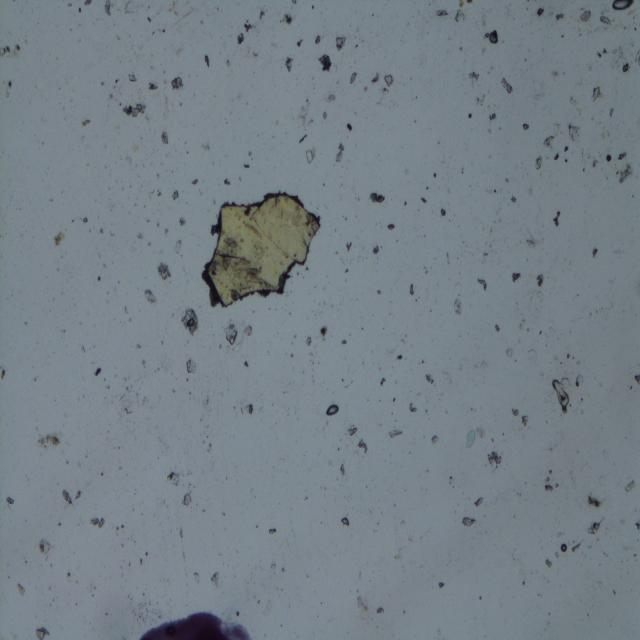Air bubble: (323, 399, 342, 422), (610, 0, 636, 12)
Background material: (553, 378, 573, 417), (178, 309, 200, 336), (36, 431, 64, 452), (120, 101, 152, 118), (35, 536, 57, 560), (222, 322, 240, 351), (614, 165, 636, 188), (586, 515, 608, 537), (351, 590, 373, 612), (485, 449, 505, 472), (0, 38, 23, 58), (544, 469, 560, 497), (87, 514, 109, 534), (142, 286, 160, 309), (170, 73, 187, 96), (13, 576, 28, 602), (584, 492, 604, 511), (50, 228, 68, 249), (155, 262, 173, 283), (464, 426, 478, 452), (598, 10, 616, 30), (460, 513, 480, 531), (567, 119, 581, 144), (511, 408, 531, 425), (368, 189, 388, 206), (317, 52, 333, 73), (338, 514, 356, 532), (32, 620, 50, 638), (334, 142, 346, 168), (499, 78, 516, 96), (157, 130, 173, 149), (167, 470, 181, 491), (183, 361, 200, 378), (622, 478, 638, 496), (356, 438, 372, 456), (60, 489, 76, 507), (180, 491, 195, 510), (452, 292, 464, 315), (580, 8, 596, 25), (472, 494, 488, 511), (170, 239, 183, 259), (534, 273, 547, 293), (619, 58, 633, 76), (387, 424, 405, 438), (544, 132, 556, 153), (552, 209, 565, 228), (488, 28, 500, 48), (474, 278, 490, 293), (334, 35, 348, 52), (4, 491, 16, 510), (434, 5, 451, 18), (202, 54, 214, 72), (317, 323, 331, 338), (240, 19, 256, 32), (384, 221, 400, 234), (104, 2, 116, 19), (454, 8, 466, 25), (508, 269, 522, 283), (346, 426, 359, 441), (209, 571, 221, 587), (284, 56, 296, 72), (338, 462, 348, 481), (348, 70, 359, 87), (305, 149, 316, 166), (406, 401, 420, 414), (489, 110, 501, 125), (430, 431, 442, 446), (92, 363, 104, 378), (170, 187, 180, 204), (616, 149, 628, 163), (233, 34, 247, 46), (282, 14, 296, 26), (383, 74, 395, 88), (595, 45, 607, 59), (426, 371, 436, 387), (571, 541, 585, 552), (438, 206, 448, 221), (577, 374, 587, 389), (298, 134, 310, 146), (407, 278, 415, 296), (395, 352, 407, 364), (146, 78, 158, 90), (0, 365, 9, 381), (223, 175, 235, 187), (603, 153, 614, 166), (588, 247, 599, 260), (246, 402, 256, 416), (536, 156, 544, 173), (593, 87, 602, 102), (371, 72, 382, 84), (345, 122, 356, 134), (370, 245, 382, 256), (376, 603, 387, 615), (536, 5, 546, 18), (244, 326, 254, 339), (177, 216, 187, 229), (632, 518, 640, 534), (519, 122, 531, 132), (543, 556, 553, 568), (559, 544, 569, 556), (128, 72, 138, 84), (468, 71, 478, 83), (304, 335, 312, 349), (343, 240, 353, 251), (240, 357, 250, 368), (457, 0, 472, 7), (84, 118, 95, 127), (633, 372, 640, 385), (137, 229, 144, 242), (191, 176, 201, 185), (553, 14, 565, 21), (267, 524, 275, 534), (314, 35, 322, 45), (510, 194, 518, 204), (258, 10, 266, 20), (378, 377, 388, 385), (494, 323, 501, 334), (82, 214, 89, 225), (439, 581, 447, 590), (297, 36, 303, 47), (244, 161, 251, 170), (83, 0, 92, 7), (562, 143, 569, 152), (553, 154, 562, 161), (77, 4, 83, 14), (322, 110, 328, 120), (421, 197, 429, 204), (467, 111, 473, 120), (328, 94, 334, 103), (339, 339, 347, 345), (9, 82, 15, 89), (65, 571, 71, 578), (431, 172, 437, 179), (139, 556, 143, 566), (564, 158, 569, 165), (98, 274, 102, 282), (147, 15, 151, 23), (291, 0, 296, 5), (391, 397, 396, 402)
Fragment: (202, 192, 320, 315)
Pen: (132, 605, 256, 639)
